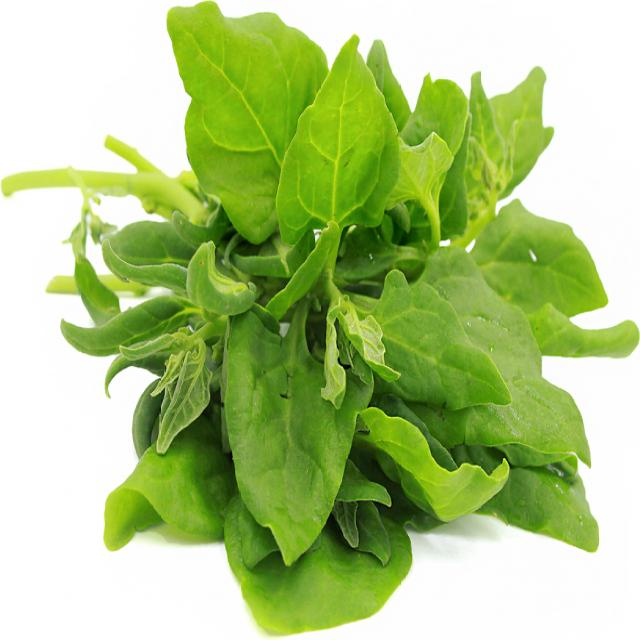spinach: (164, 5, 274, 238), (223, 396, 357, 569), (388, 272, 506, 413), (278, 111, 400, 236), (502, 310, 595, 469), (376, 413, 502, 526), (490, 204, 612, 320), (102, 439, 223, 548), (499, 476, 606, 564)
